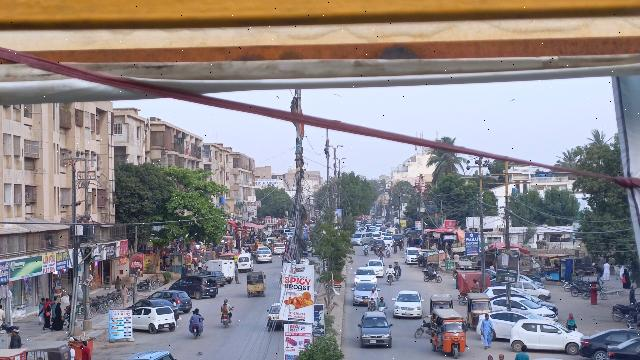Bike: (366, 297, 380, 313), (220, 314, 231, 329), (191, 323, 200, 340)
Car: (509, 317, 582, 353), (576, 327, 640, 360), (476, 310, 536, 340), (132, 305, 179, 335), (357, 310, 392, 349), (169, 273, 219, 298), (391, 287, 424, 319), (604, 335, 640, 360), (348, 281, 381, 306), (352, 266, 380, 285), (266, 301, 280, 333), (264, 301, 265, 302)
Person: (479, 309, 494, 351), (50, 301, 65, 335), (563, 309, 577, 331), (219, 298, 232, 314), (367, 285, 380, 299), (191, 310, 203, 324)
Rickshaw: (429, 307, 469, 359), (464, 291, 492, 329), (244, 270, 268, 297)
Truck: (206, 257, 235, 282)
